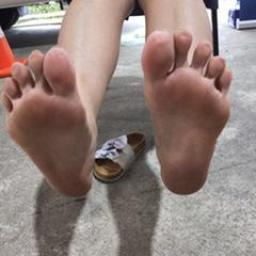Plantar View -Both Feet-: (2, 26, 241, 204)
